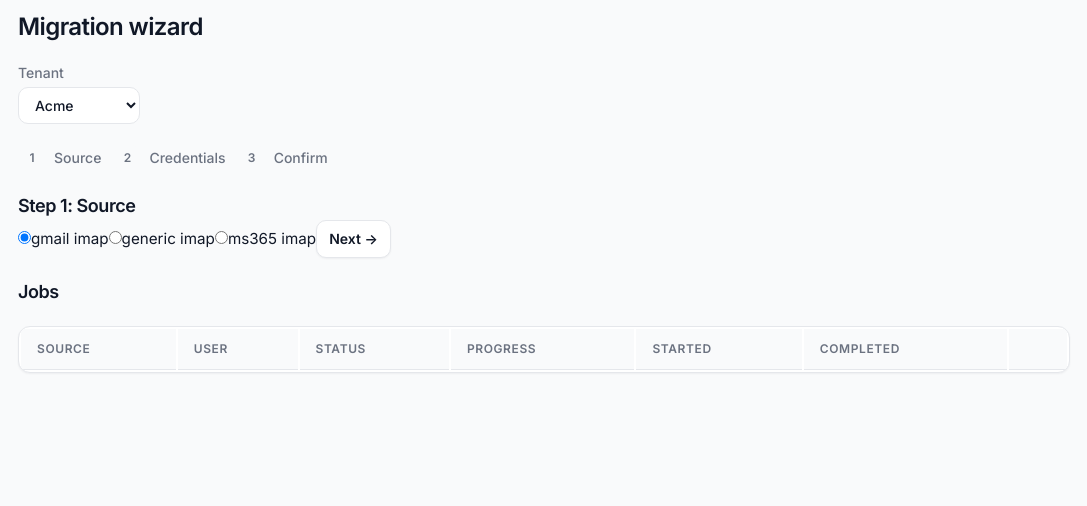
Scenario: <MigrationAdmin /> › surfaces a failed connection probe without advancing
Step 1. Select "Acme" in the dropdown labelled "Tenant" → {"x": 79, "y": 106}, box left=18, top=87, right=140, bottom=124
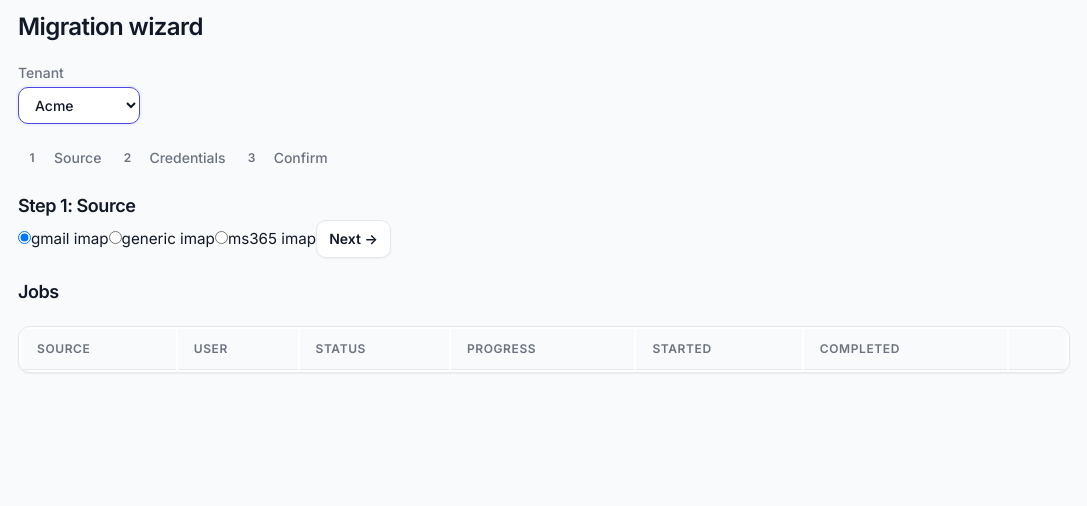
Step 2. Click the button "Next →" → {"x": 353, "y": 239}, box left=316, top=220, right=391, bottom=258
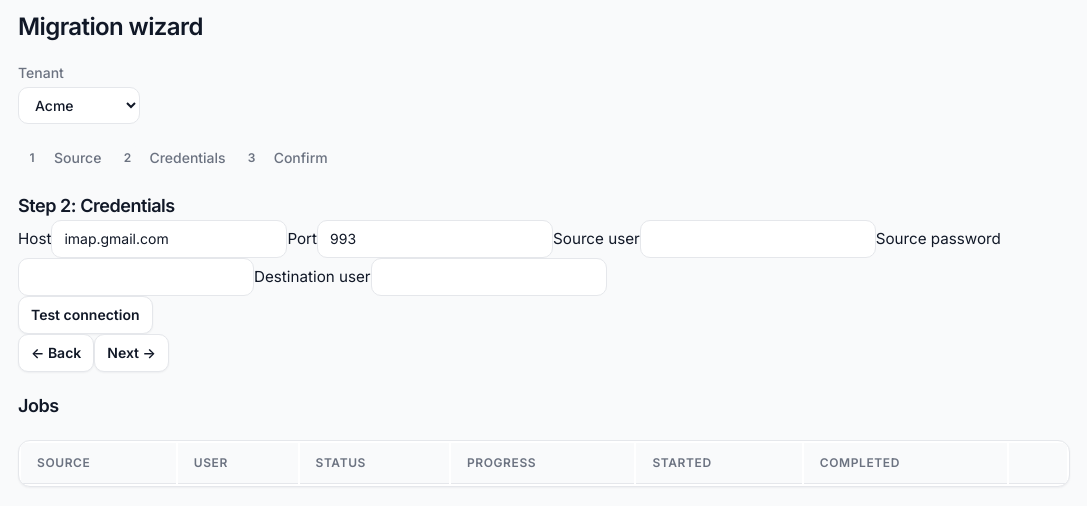
Step 3. Type "imap.example.com" into the field labelled "Host" → {"x": 169, "y": 239}, box left=51, top=220, right=287, bottom=258
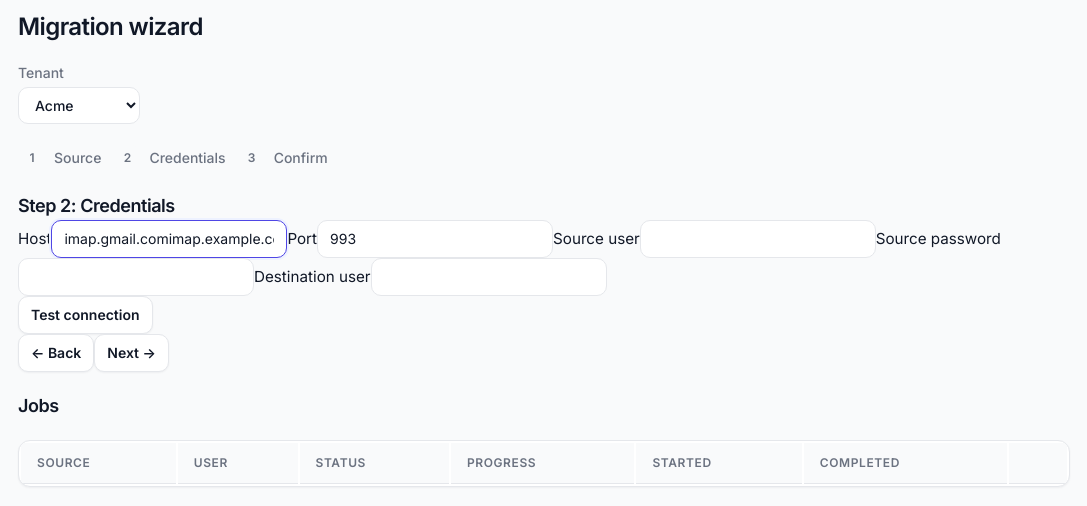
Step 4. Type "bob" into the field labelled "Source user" → {"x": 758, "y": 239}, box left=640, top=220, right=876, bottom=258
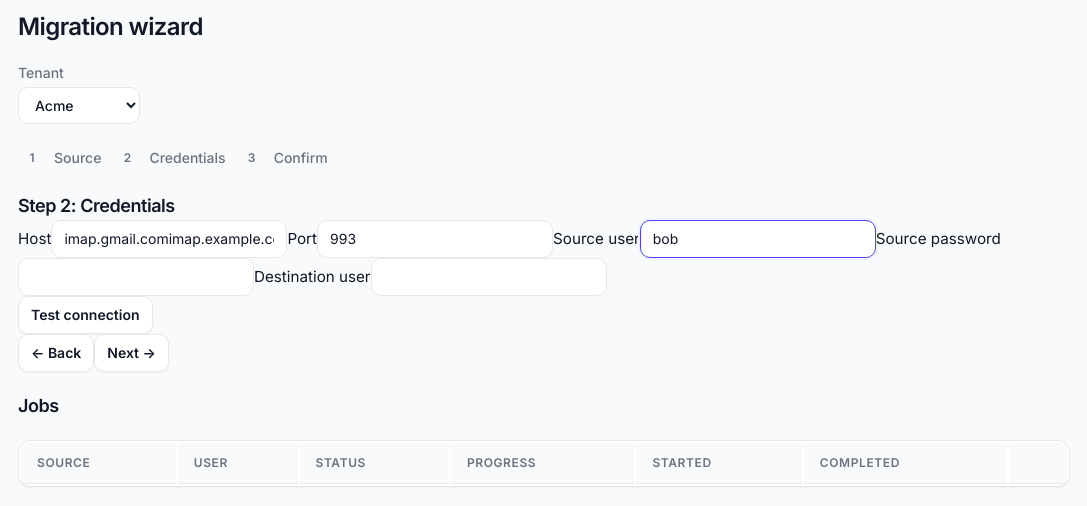
Step 5. Type "wrong" into the password field labelled "Source password" → {"x": 136, "y": 277}, box left=18, top=258, right=254, bottom=296
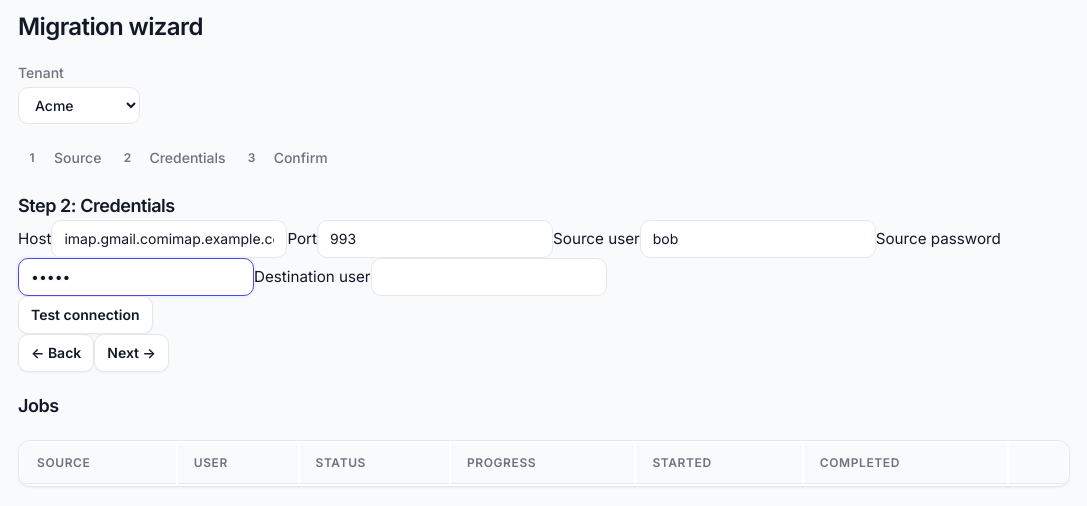
Step 6. Click the button "Test connection" → {"x": 85, "y": 315}, box left=18, top=296, right=152, bottom=334
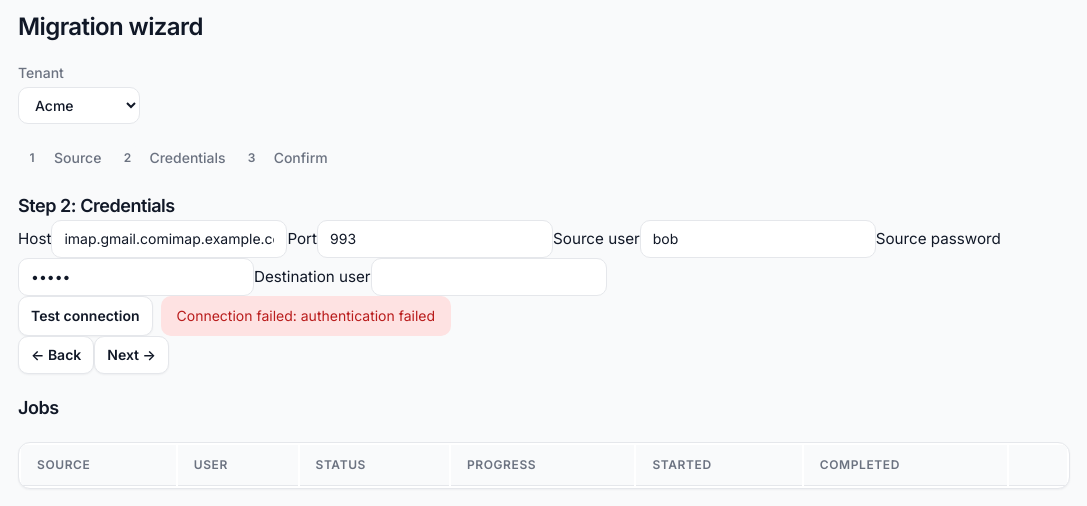
Check: the text "Connection failed: authentication failed" is shown, box left=160, top=296, right=451, bottom=336
